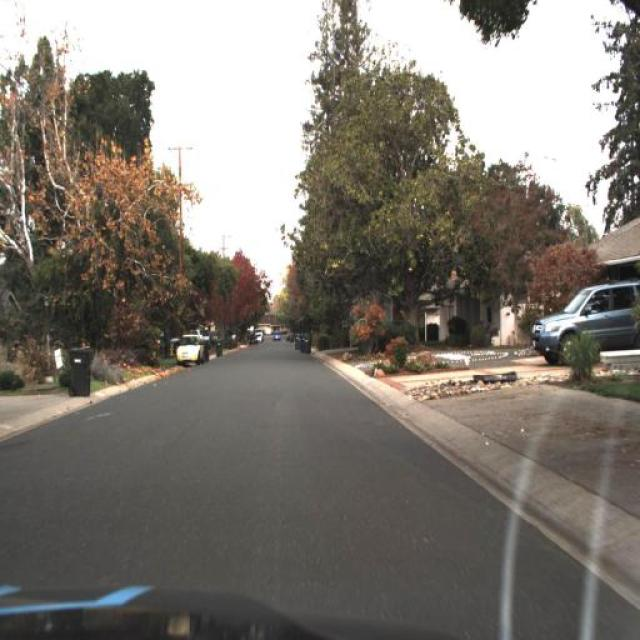car: (532, 280, 639, 368), (176, 331, 205, 363)
